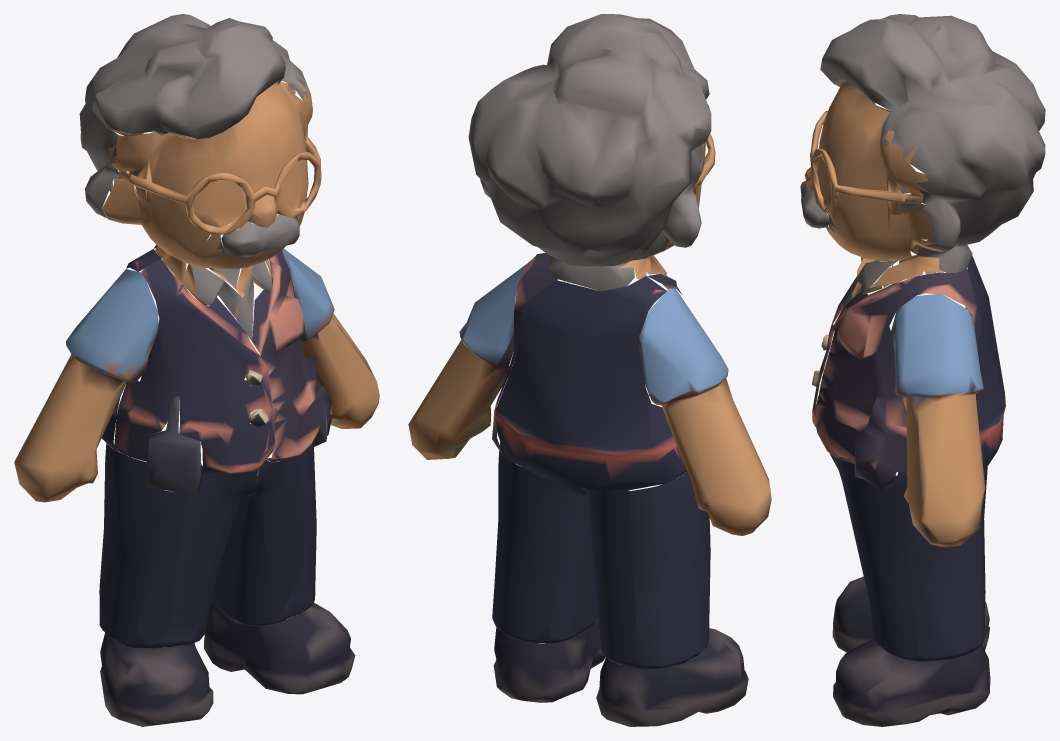
3 views of the same model, side by side, from view 1: azimuth 30°, elevation 25°; view 2: azimuth 150°, elevation 25°; view 3: azimuth 270°, elevation 25° (orthographic).
Parts seen in each view (by area): view 1: bottom, top, hair, head, sleeve_r, shoe_l, shoe_r, sleeve_l; view 2: hair, bottom, top, sleeve_r, sleeve_l, shoe_r, shoe_l, head; view 3: hair, top, sleeve_l, bottom, head, shoe_l, shoe_r.
Boxes of the visible parts, bbox=[...] form: bottom: bbox=[99, 443, 316, 648]; top: bbox=[101, 249, 332, 474]; hair: bbox=[79, 14, 307, 341]; head: bbox=[101, 79, 321, 317]; sleeve_r: bbox=[14, 269, 201, 502]; shoe_l: bbox=[204, 602, 355, 694]; shoe_r: bbox=[100, 632, 213, 726]; sleeve_l: bbox=[282, 248, 379, 428]; hair: bbox=[468, 14, 711, 291]; bottom: bbox=[492, 442, 710, 669]; top: bbox=[492, 253, 687, 490]; sleeve_r: bbox=[638, 288, 771, 535]; sleeve_l: bbox=[408, 264, 526, 459]; shoe_r: bbox=[596, 628, 748, 726]; shoe_l: bbox=[493, 617, 605, 702]; head: bbox=[620, 133, 715, 279]; hair: bbox=[800, 14, 1045, 312]; top: bbox=[812, 256, 1005, 490]; sleeve_l: bbox=[889, 293, 985, 547]; bottom: bbox=[829, 453, 987, 661]; head: bbox=[805, 79, 944, 297]; shoe_l: bbox=[833, 639, 990, 726]; shoe_r: bbox=[832, 576, 989, 652].
Bounding box in the file's own units: 0.5664 × 1.03 × 0.3511.
